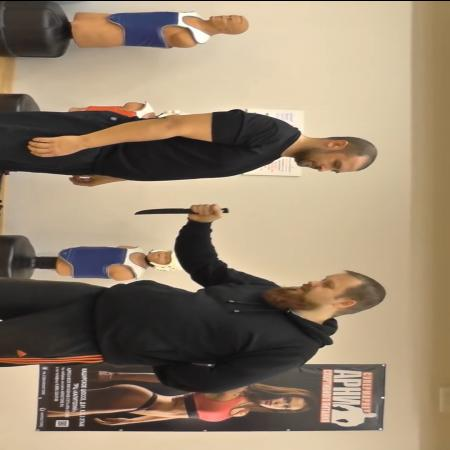long weapon: (131, 200, 235, 217)
